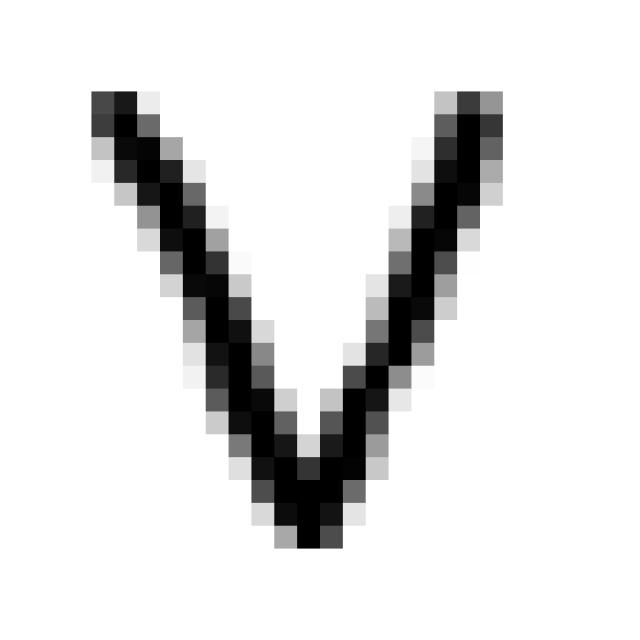7 -seven-: (68, 66, 524, 562)
